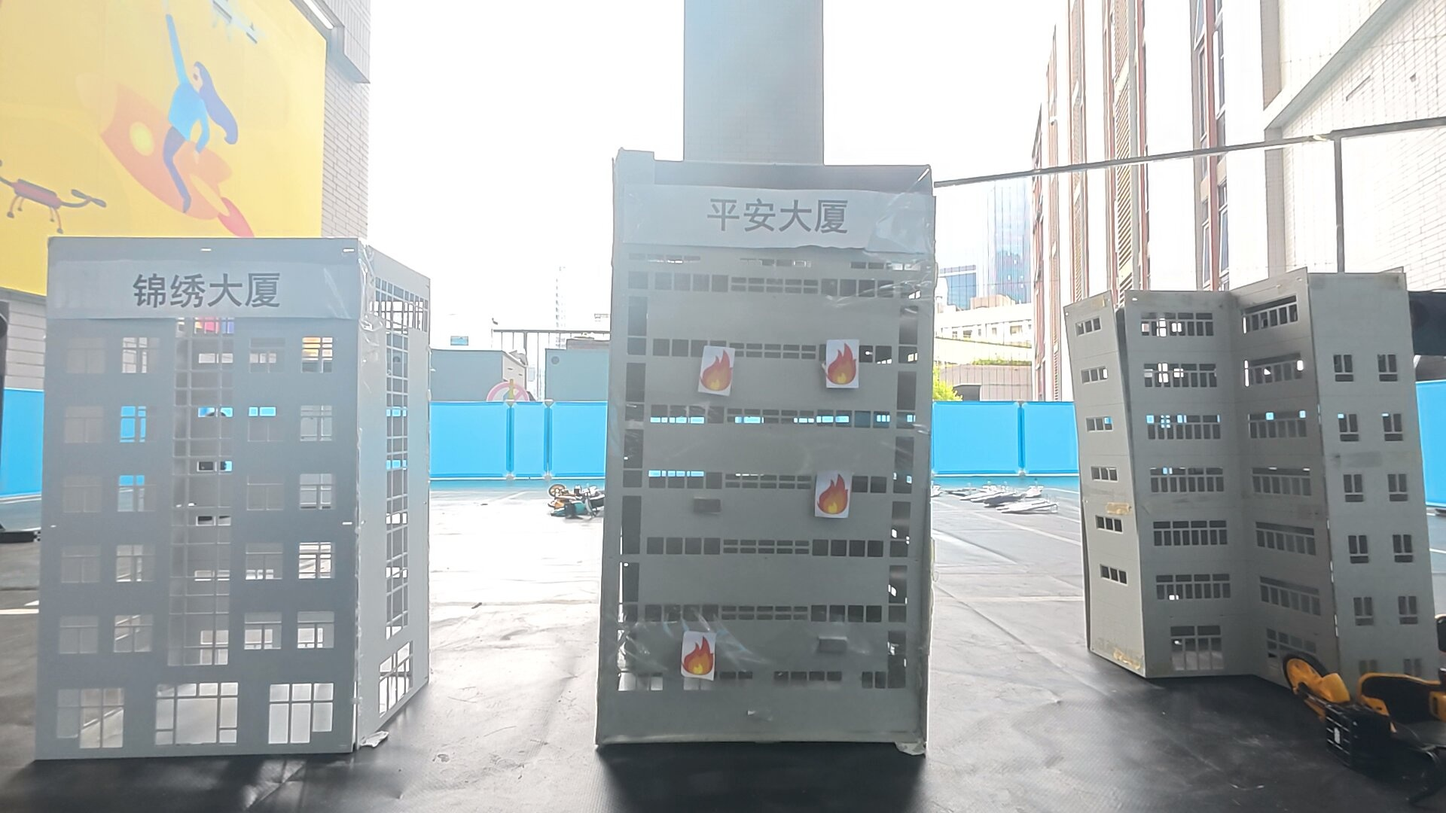fire: (679, 628, 719, 680), (699, 343, 738, 395), (823, 339, 861, 390), (813, 470, 853, 517)
